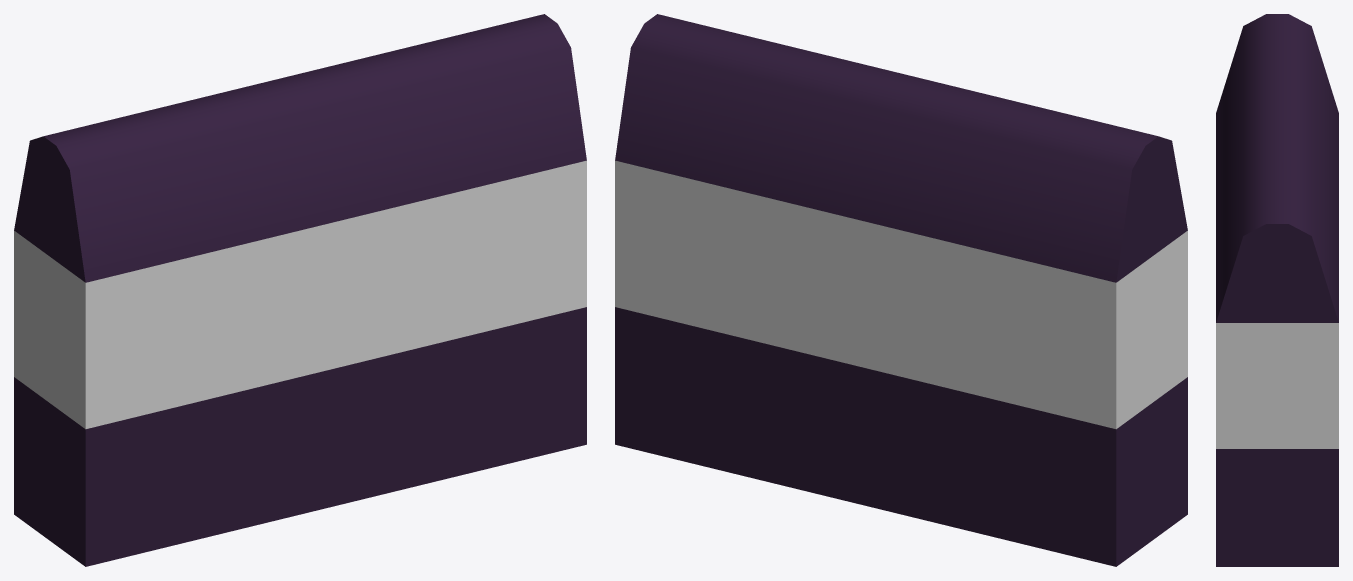
File: Barricade.fbx
3 renders of one model, left to right at view 1: azimuth 30°, elevation 25°; view 2: azimuth 150°, elevation 25°; view 3: azimuth 270°, elevation 25°, orthographic. The views are drawn at different scales.
Parts seen in each view (by area): view 1: Cube, Cube.001; view 2: Cube, Cube.001; view 3: Cube, Cube.001.
Part boxes in pixels (x1,y1,x2,y2): Cube: (14,14,586,566); Cube.001: (14,160,586,429); Cube: (615,14,1187,566); Cube.001: (615,160,1187,429); Cube: (1216,14,1338,566); Cube.001: (1216,323,1338,448).
Bounding box in the file's own units: 1139 × 868 × 282.
